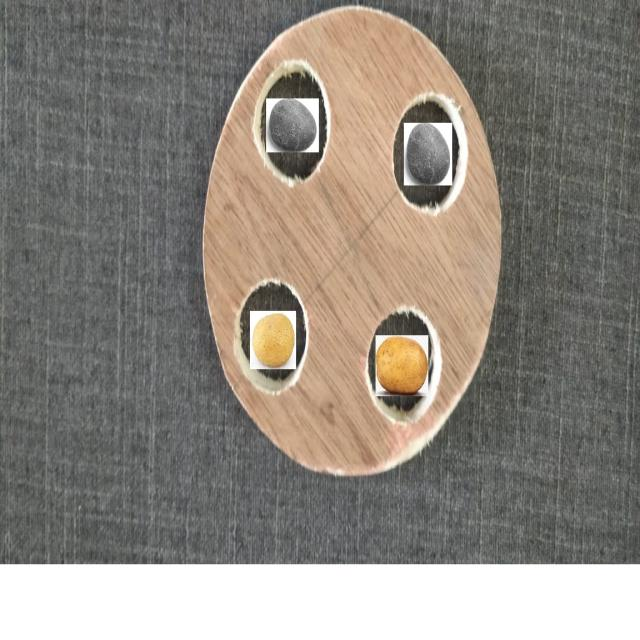potato: (376, 337, 428, 394), (253, 314, 294, 368)
